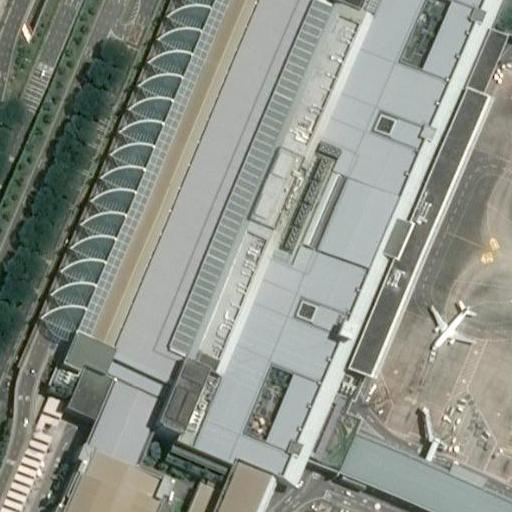Aircraft: (431, 291, 481, 342)
